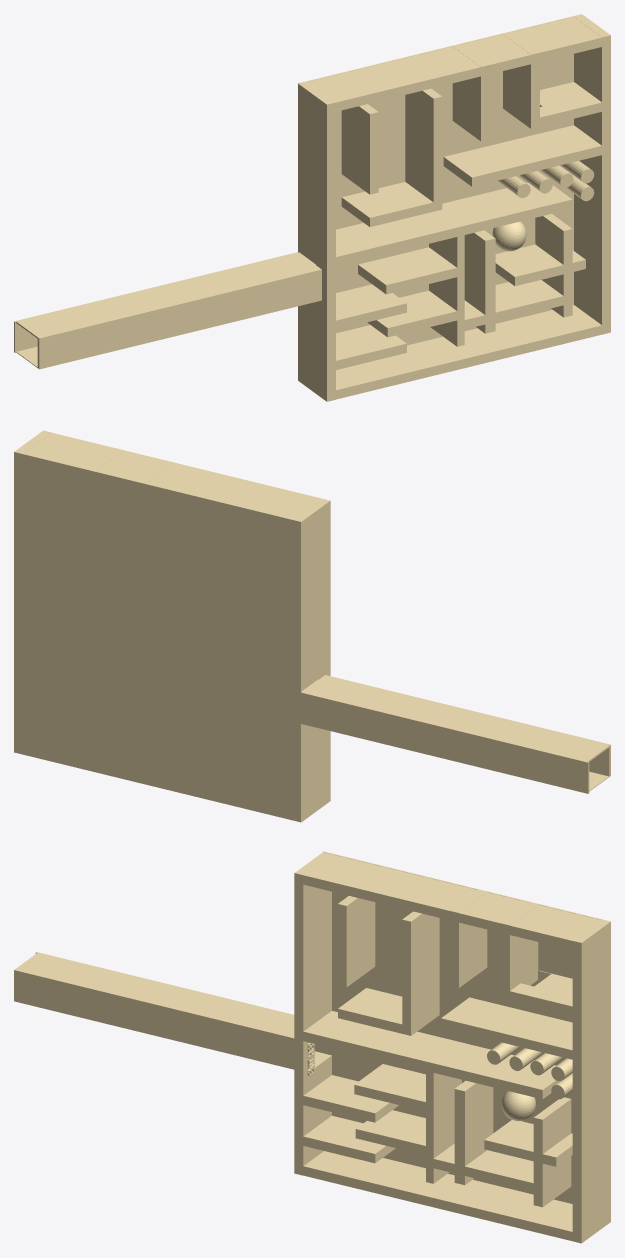
The model's file is tinker.obj.
The picture shows the model from 3 angles, top to bottom: view 1: azimuth 30°, elevation 25°; view 2: azimuth 150°, elevation 25°; view 3: azimuth 330°, elevation 25°; orthographic projection.
Visible parts, largest first — view 1: obj_0; view 2: obj_0; view 3: obj_0.
Part boxes in pixels (x1=…): obj_0: x1=14, y1=14, x2=610, y2=401; obj_0: x1=14, y1=430, x2=610, y2=822; obj_0: x1=14, y1=851, x2=610, y2=1243.
Bounding box in the file's own units: 384 × 192 × 34.
